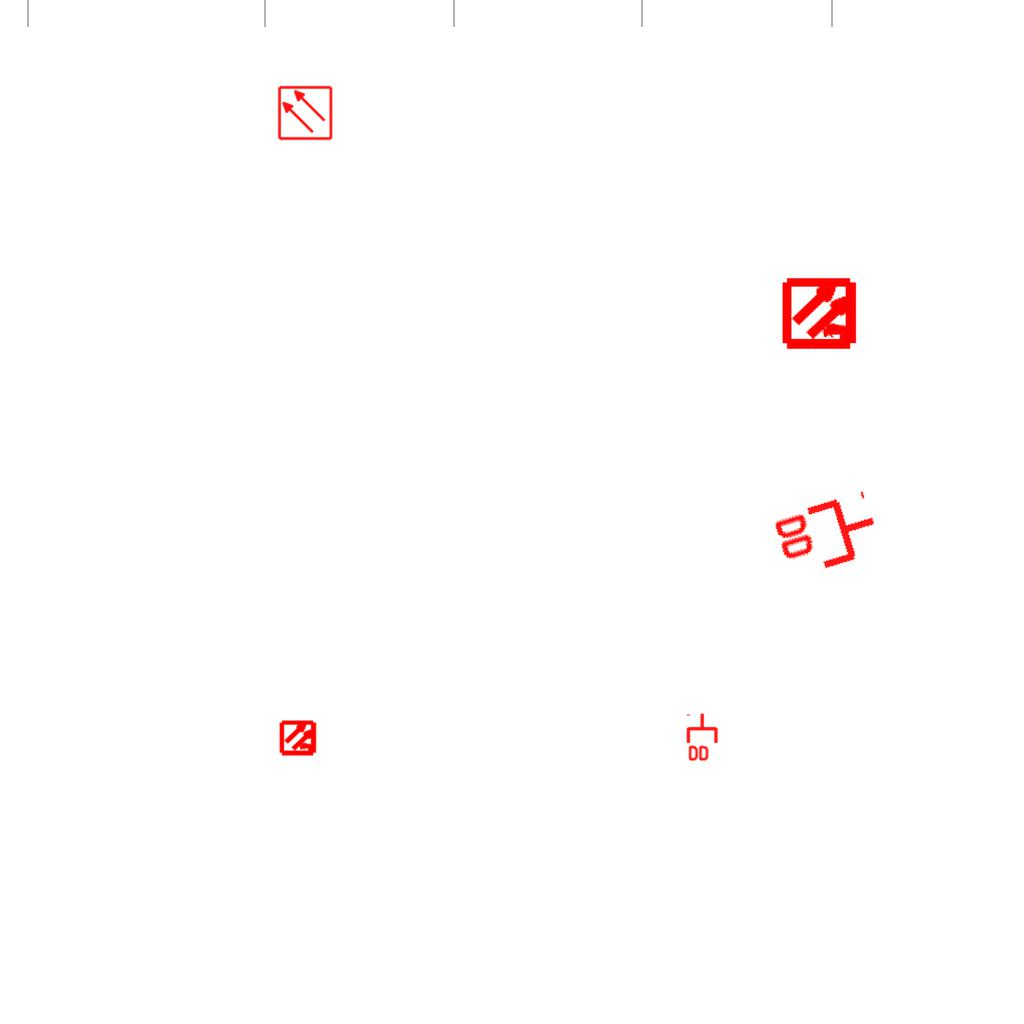Datenanschluss_zweifach: (768, 488, 887, 585), (686, 712, 720, 763)
OT_Multisensormelder_(Kombination_RMO_WMD): (765, 257, 878, 370), (271, 710, 327, 766)
RMO_Rauchmelder_optischer: (277, 85, 333, 141)
